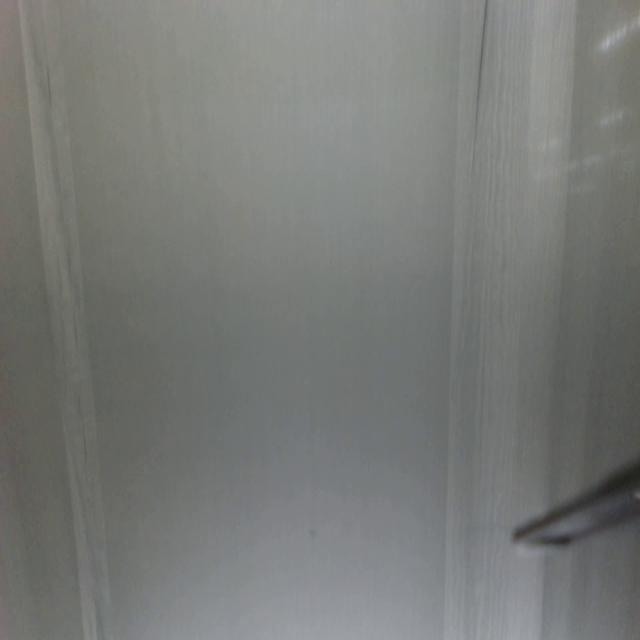crease: (19, 1, 114, 636), (447, 0, 554, 504)
